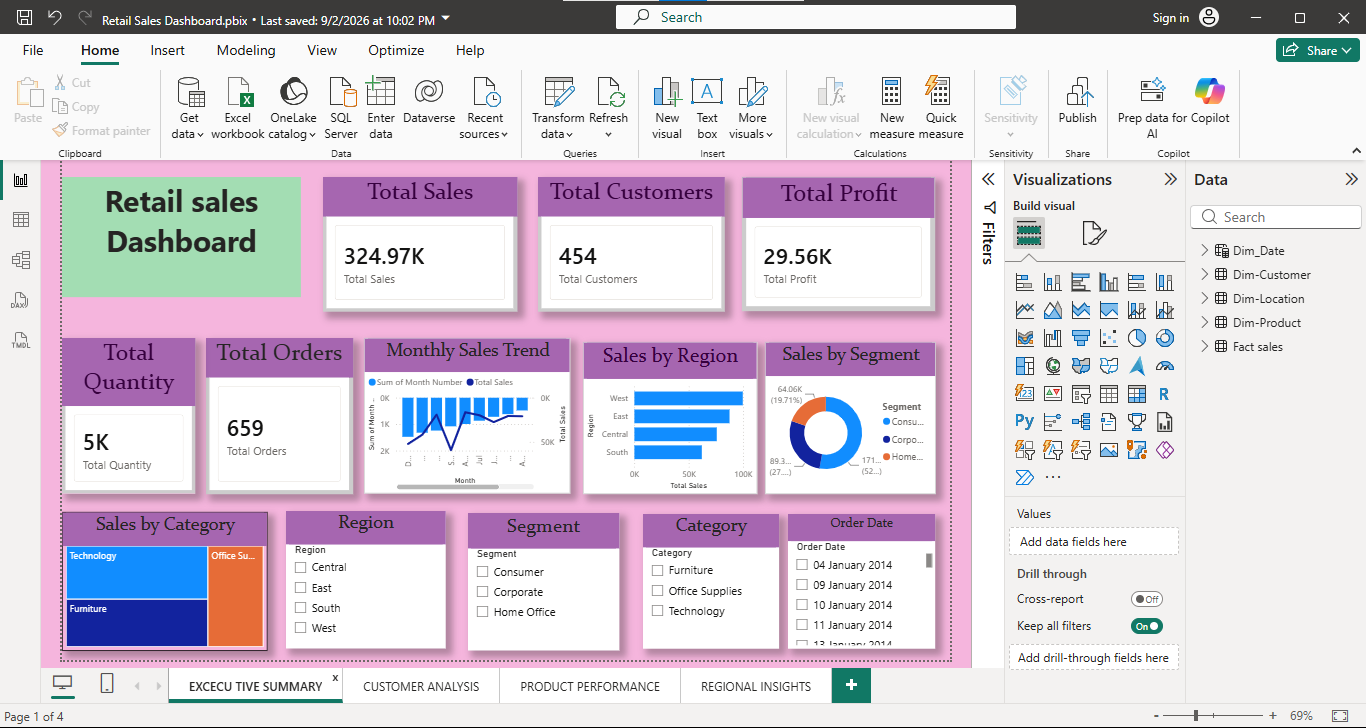

Layout of this report page (visuals, bound fields, positions):
{"tool":"powerbi","page":{"name":"EXCECU TIVE SUMMARY","canvas":[1280,720],"ordinal":0},"visuals":[{"type":"cardVisual","title":"Total Sales","fields":{"Data":["Fact sales.Total Sales"]},"box":[375.4,23.9,279.9,194.1],"z":0},{"type":"cardVisual","title":"Total Profit","fields":{"Data":["Fact sales.Total Profit"]},"box":[979.2,24.5,277.9,193],"z":1000},{"type":"cardVisual","title":"Total Orders","fields":{"Data":["Fact sales.Total Orders"]},"box":[207.4,256.3,211.7,224.6],"z":2000},{"type":"cardVisual","title":"Total Quantity","fields":{"Data":["Fact sales.Total Quantity"]},"box":[0,256.1,192.5,224.3],"z":3000},{"type":"cardVisual","title":"Total Customers","fields":{"Data":["Fact sales.Total Customers"]},"box":[685.4,24.5,269.3,194.4],"z":4000},{"type":"lineStackedColumnComboChart","title":"Monthly Sales Trend","fields":{"Y":["Sum(Dim_Date.Month Number)"],"Category":["Dim_Date.Month"],"Y2":["Fact sales.Total Sales"]},"box":[434.2,256.1,297.4,224.3],"z":5000},{"type":"clusteredBarChart","title":" Sales by Region","fields":{"Category":["Dim-Location.Region"],"Y":["Fact sales.Total Sales"]},"box":[750.2,262.1,250.6,218.9],"z":6000},{"type":"donutChart","title":"Sales by Segment","fields":{"Category":["Dim-Customer.Segment"],"Y":["Fact sales.Total Sales"]},"box":[1012.3,262.1,246.2,218.9],"z":7000},{"type":"treemap","title":"Sales by Category","fields":{"Group":["Dim-Product.Category"],"Values":["Fact sales.Total Sales"]},"box":[0,507.1,295.7,200],"z":8000},{"type":"slicer","title":"Region","fields":{"Values":["Dim-Location.Region"]},"box":[322,506,230,198],"z":9000},{"type":"slicer","title":"Segment","fields":{"Values":["Dim-Customer.Segment"]},"box":[584,508,218,198],"z":10000},{"type":"slicer","title":"Category","fields":{"Values":["Dim-Product.Category"]},"box":[836,510,196,194],"z":11000},{"type":"slicer","title":"Order Date","fields":{"Values":["Fact sales.Order Date"]},"box":[1046,510,212,194],"z":12000},{"type":"textbox","box":[0,23.9,343.6,173.4],"z":13000}]}

Visuals, with their boxes on the page's 1280x720 design canvas (x1, y1, x2, y2). These are canvas units, not pixel positions in the 1366x728 screenshot, which may show the page scaled, cropped or inside an application window:
"Total Sales" cardVisual: (x1=375, y1=24, x2=655, y2=218)
"Total Profit" cardVisual: (x1=979, y1=24, x2=1257, y2=218)
"Total Orders" cardVisual: (x1=207, y1=256, x2=419, y2=481)
"Total Quantity" cardVisual: (x1=0, y1=256, x2=192, y2=480)
"Total Customers" cardVisual: (x1=685, y1=24, x2=955, y2=219)
"Monthly Sales Trend" lineStackedColumnComboChart: (x1=434, y1=256, x2=732, y2=480)
" Sales by Region" clusteredBarChart: (x1=750, y1=262, x2=1001, y2=481)
"Sales by Segment" donutChart: (x1=1012, y1=262, x2=1258, y2=481)
"Sales by Category" treemap: (x1=0, y1=507, x2=296, y2=707)
"Region" slicer: (x1=322, y1=506, x2=552, y2=704)
"Segment" slicer: (x1=584, y1=508, x2=802, y2=706)
"Category" slicer: (x1=836, y1=510, x2=1032, y2=704)
"Order Date" slicer: (x1=1046, y1=510, x2=1258, y2=704)
textbox: (x1=0, y1=24, x2=344, y2=197)
